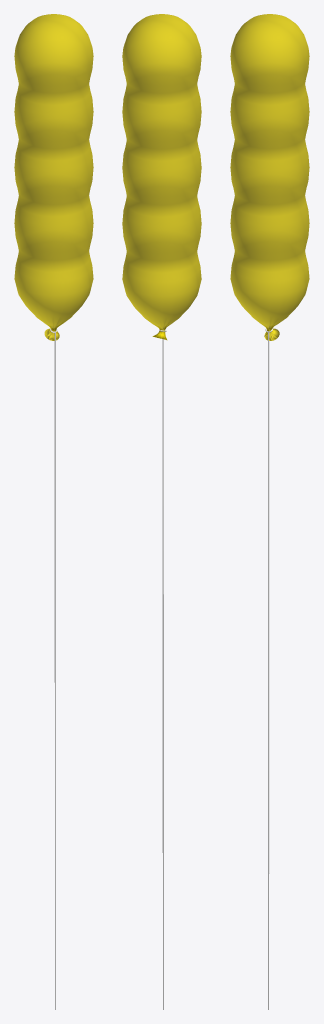
Rendered from balloonLong.fbx.
3 renders of one model, left to right at view 1: azimuth 30°, elevation 25°; view 2: azimuth 150°, elevation 25°; view 3: azimuth 330°, elevation 25°, orthographic.
Visible parts, largest first — view 1: balloon rippled main, baloon string 2; view 2: balloon rippled main, baloon string 2; view 3: balloon rippled main, baloon string 2.
Boxes of the visible parts, x1,y1,x2,y2 form: balloon rippled main: (14,14,93,340); baloon string 2: (50,329,57,1009); balloon rippled main: (122,14,201,340); baloon string 2: (159,329,166,1009); balloon rippled main: (230,14,309,340); baloon string 2: (265,328,272,1009).
Bounding box in the file's own units: 12.09 × 167 × 12.09.
